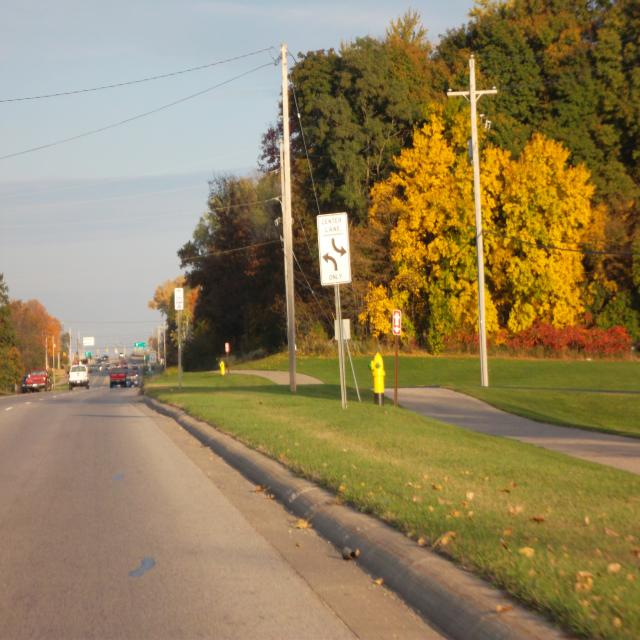regulatory: (316, 210, 354, 286), (174, 288, 184, 311), (150, 350, 156, 362)
